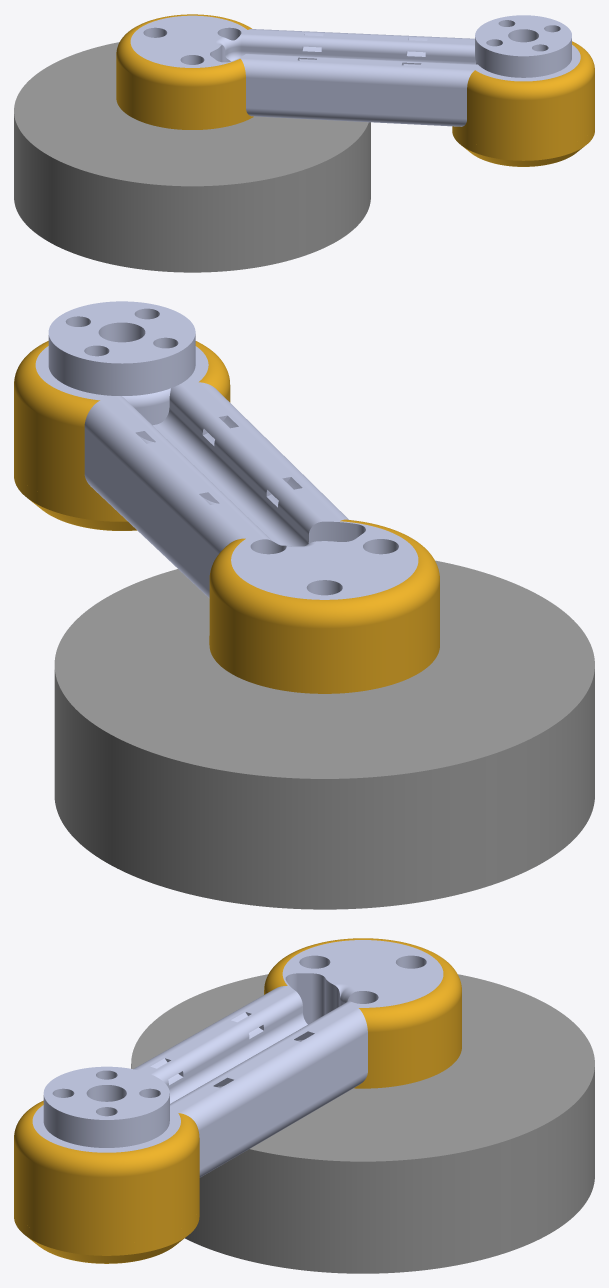
File: qB-BackLeg-Left.obj
3 views of the same model, one above another, from view 1: azimuth 30°, elevation 25°; view 2: azimuth 150°, elevation 25°; view 3: azimuth 270°, elevation 25° (orthographic). The views are drawn at different scales.
Parts seen in each view (by area): view 1: Body2, Leg-Back, LegCap; view 2: Body2, Leg-Back, LegCap; view 3: Body2, Leg-Back, LegCap.
Part boxes in pixels (x1,y1,x2,y2): Body2: (14, 42, 370, 272); Leg-Back: (116, 14, 594, 152); LegCap: (452, 124, 594, 166); Body2: (54, 560, 594, 909); Leg-Back: (14, 301, 439, 693); LegCap: (14, 466, 136, 530); Body2: (131, 974, 594, 1273); Leg-Back: (14, 938, 461, 1244); LegCap: (14, 1206, 199, 1263).
Size of the model in its own units: 109 by 41 by 93.94.
